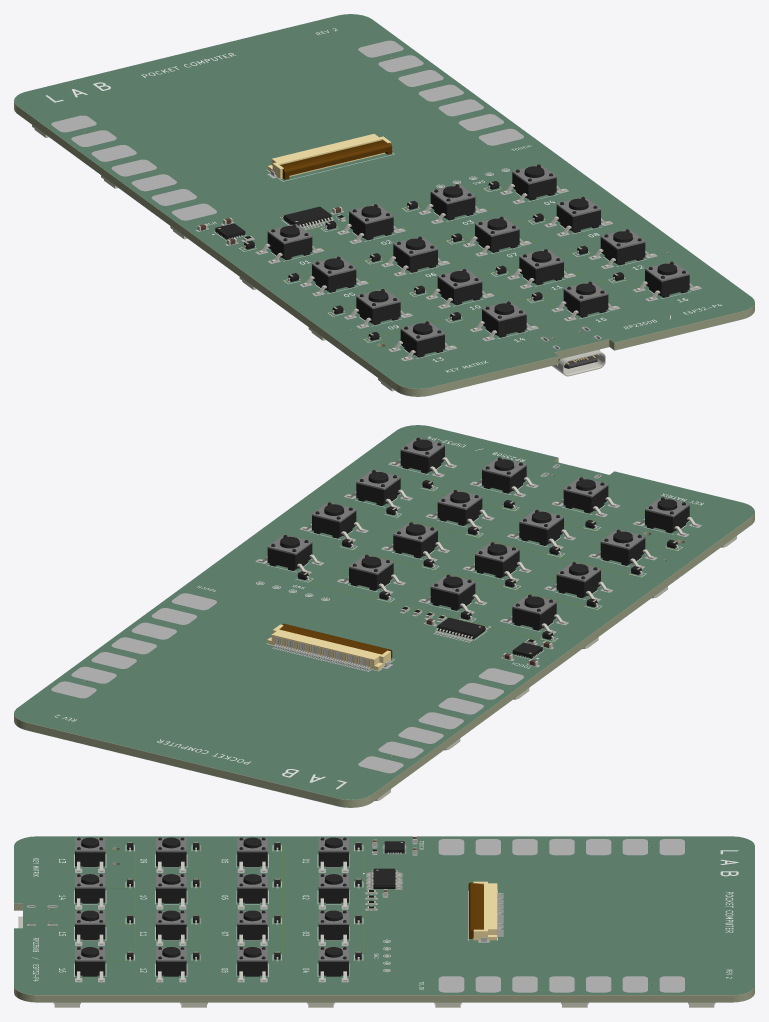
The model's file is LAB-Pocket-R2.glb.
3 views of the same model, one above another, from view 1: azimuth 30°, elevation 25°; view 2: azimuth 150°, elevation 25°; view 3: azimuth 270°, elevation 25° (orthographic). The views are drawn at different scales.
Parts seen in each view (by area): view 1: =>[0:1:1:40], =>[0:1:1:42], =>[0:1:1:5] (×16), =>[0:1:1:36], =>[0:1:1:38], lock, body, =>[0:1:1:26], =>[0:1:1:13]; view 2: =>[0:1:1:40], =>[0:1:1:42], =>[0:1:1:5] (×16), =>[0:1:1:36], =>[0:1:1:38], body, pins, lock, =>[0:1:1:13]; view 3: =>[0:1:1:40], =>[0:1:1:42], =>[0:1:1:5] (×16), =>[0:1:1:36], =>[0:1:1:38], body, lock, =>[0:1:1:41], =>[0:1:1:13], =>[0:1:1:35].
Boxes of the visible parts, bbox=[...] form: =>[0:1:1:40]: bbox=[14, 14, 754, 388]; =>[0:1:1:42]: bbox=[14, 15, 754, 396]; =>[0:1:1:5] (×16): bbox=[258, 164, 698, 359]; =>[0:1:1:36]: bbox=[51, 40, 701, 361]; =>[0:1:1:38]: bbox=[45, 28, 721, 372]; lock: bbox=[280, 140, 392, 179]; body: bbox=[267, 134, 390, 178]; =>[0:1:1:26]: bbox=[552, 349, 605, 376]; =>[0:1:1:13]: bbox=[281, 206, 332, 229]; =>[0:1:1:40]: bbox=[14, 425, 754, 799]; =>[0:1:1:42]: bbox=[14, 426, 754, 807]; =>[0:1:1:5] (×16): bbox=[258, 437, 698, 632]; =>[0:1:1:36]: bbox=[51, 462, 701, 773]; =>[0:1:1:38]: bbox=[55, 436, 703, 789]; body: bbox=[267, 624, 390, 670]; pins: bbox=[270, 634, 389, 670]; lock: bbox=[280, 623, 392, 658]; =>[0:1:1:13]: bbox=[434, 617, 487, 641]; =>[0:1:1:40]: bbox=[14, 836, 754, 994]; =>[0:1:1:42]: bbox=[14, 837, 754, 1002]; =>[0:1:1:5] (×16): bbox=[75, 837, 348, 981]; =>[0:1:1:36]: bbox=[27, 839, 684, 992]; =>[0:1:1:38]: bbox=[32, 841, 738, 989]; body: bbox=[473, 881, 497, 940]; lock: bbox=[468, 882, 483, 938]; =>[0:1:1:41]: bbox=[15, 996, 753, 1002]; =>[0:1:1:13]: bbox=[368, 868, 400, 889]; =>[0:1:1:35]: bbox=[78, 845, 363, 953].
Size of the model in its own units: 0.074 by 0.00929 by 0.146.
